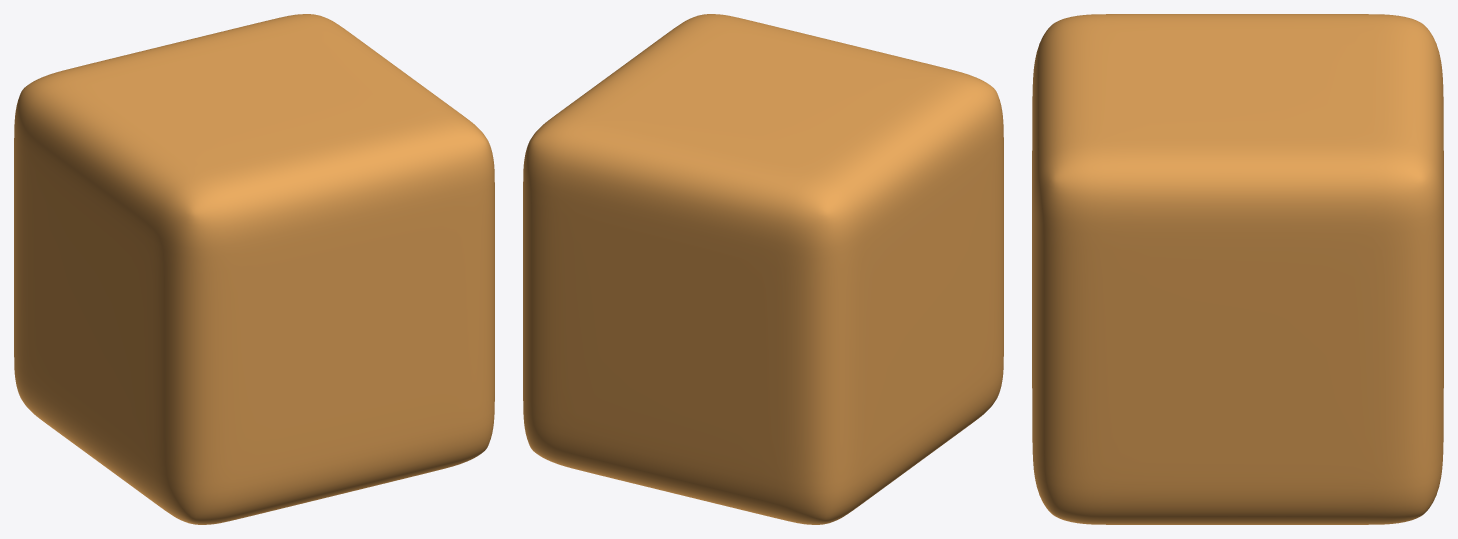
3 renders of one model, left to right at view 1: azimuth 30°, elevation 25°; view 2: azimuth 150°, elevation 25°; view 3: azimuth 270°, elevation 25°, orthographic. The views are drawn at different scales.
Visible parts, largest first — view 1: Cube; view 2: Cube; view 3: Cube.
Boxes of the visible parts, x1=… form: Cube: x1=14, y1=14, x2=494, y2=524; Cube: x1=523, y1=14, x2=1003, y2=524; Cube: x1=1032, y1=14, x2=1443, y2=524.
Bounding box in the file's own units: 2 × 2 × 2.
